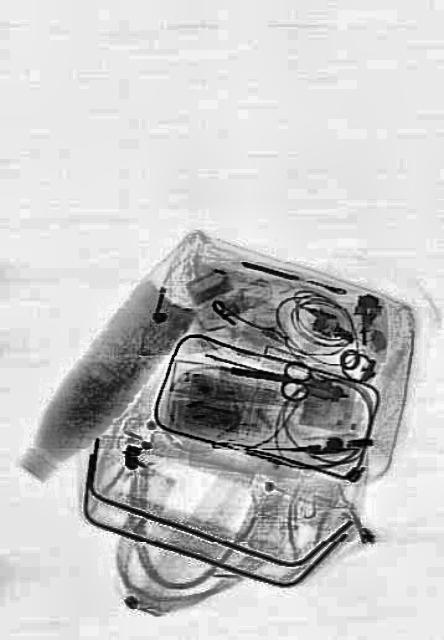Scissors: (226, 350, 312, 400)
